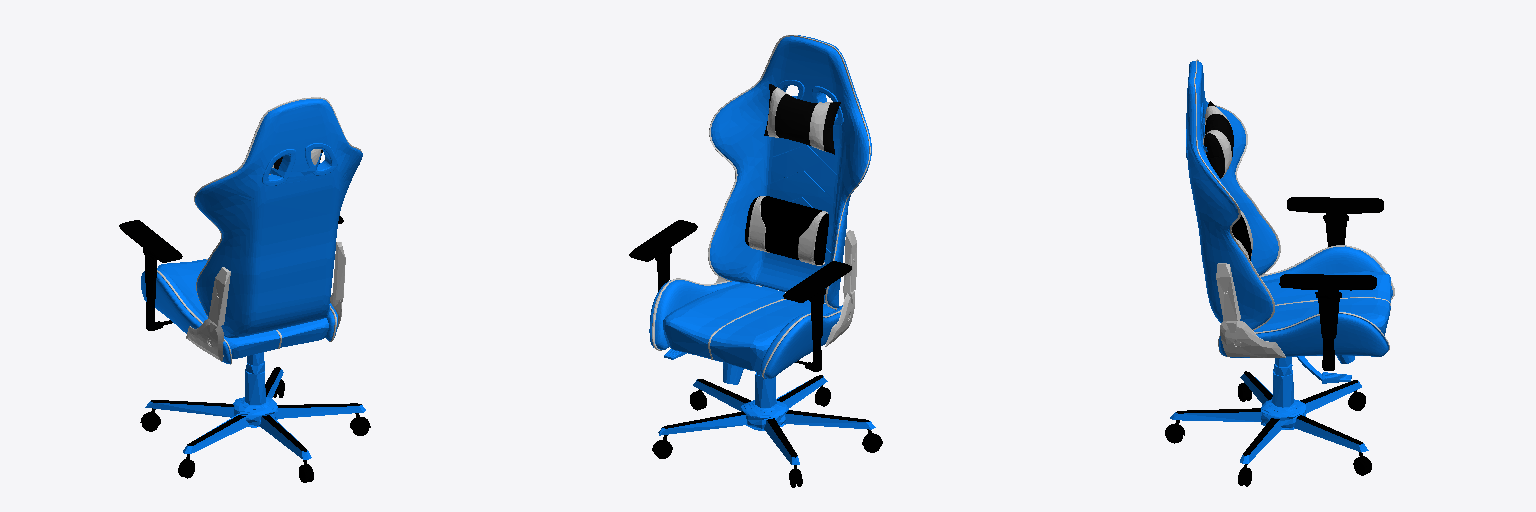
The model's file is chair.obj.
The picture shows the model from 3 angles: view 1: azimuth 30°, elevation 25°; view 2: azimuth 150°, elevation 25°; view 3: azimuth 270°, elevation 25°; orthographic projection.
Parts seen in each view (by area): view 1: banco_Plane.009, estrutura_Plane.003, roda_Cylinder.005; view 2: banco_Plane.009, estrutura_Plane.003, travesseiro_Plane, roda_Cylinder.005; view 3: banco_Plane.009, estrutura_Plane.003, travesseiro_Plane, roda_Cylinder.005.
Part boxes in pixels (bbox=[...]): banco_Plane.009: bbox=[141, 97, 362, 364]; estrutura_Plane.003: bbox=[119, 216, 365, 459]; roda_Cylinder.005: bbox=[140, 379, 370, 482]; banco_Plane.009: bbox=[649, 35, 871, 378]; estrutura_Plane.003: bbox=[629, 220, 875, 464]; travesseiro_Plane: bbox=[745, 84, 840, 264]; roda_Cylinder.005: bbox=[652, 385, 882, 487]; banco_Plane.009: bbox=[1186, 59, 1394, 357]; estrutura_Plane.003: bbox=[1170, 197, 1383, 463]; travesseiro_Plane: bbox=[1204, 101, 1251, 260]; roda_Cylinder.005: bbox=[1165, 383, 1371, 486].
Bounding box in the file's own units: 2.63 × 4.91 × 2.74.